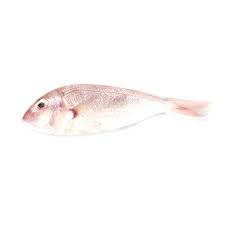Ikan Kerisi: (20, 83, 206, 138)
